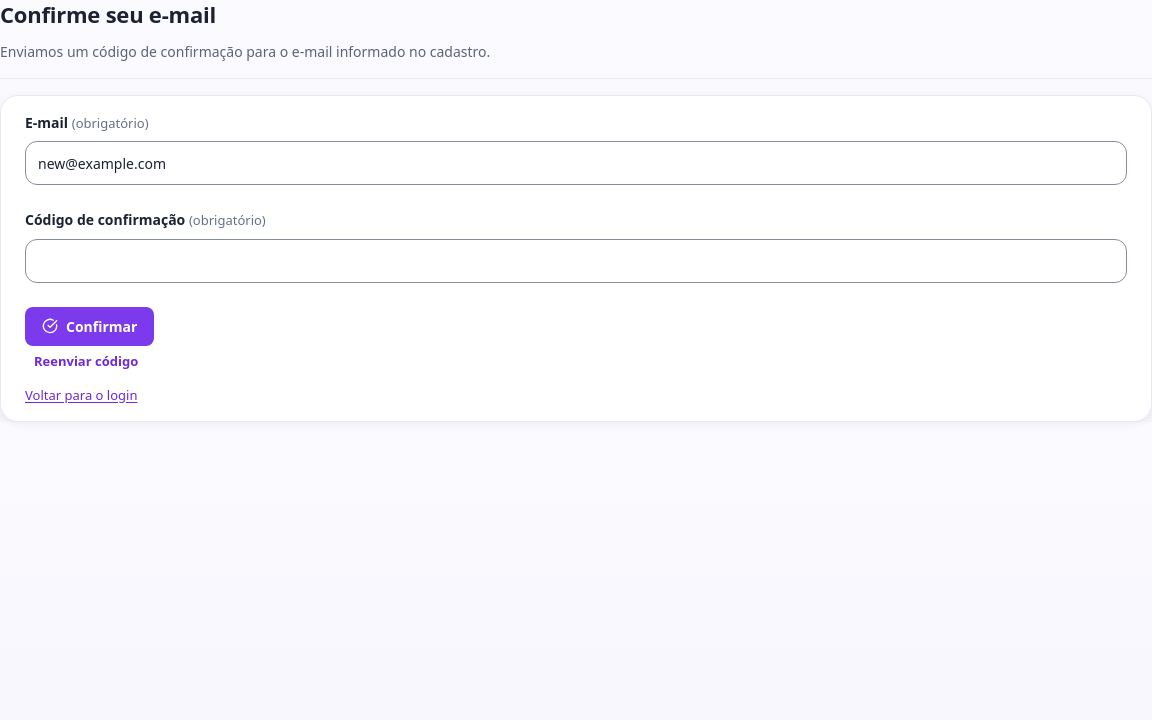
Test: VerifyEmail › resends the code and shows a confirmation notice, without exposing whether the e-mail exists
The image size is (1152, 720).
Click the button "Reenviar código": click(86, 362) x1=25 y1=346 x2=147 y2=378
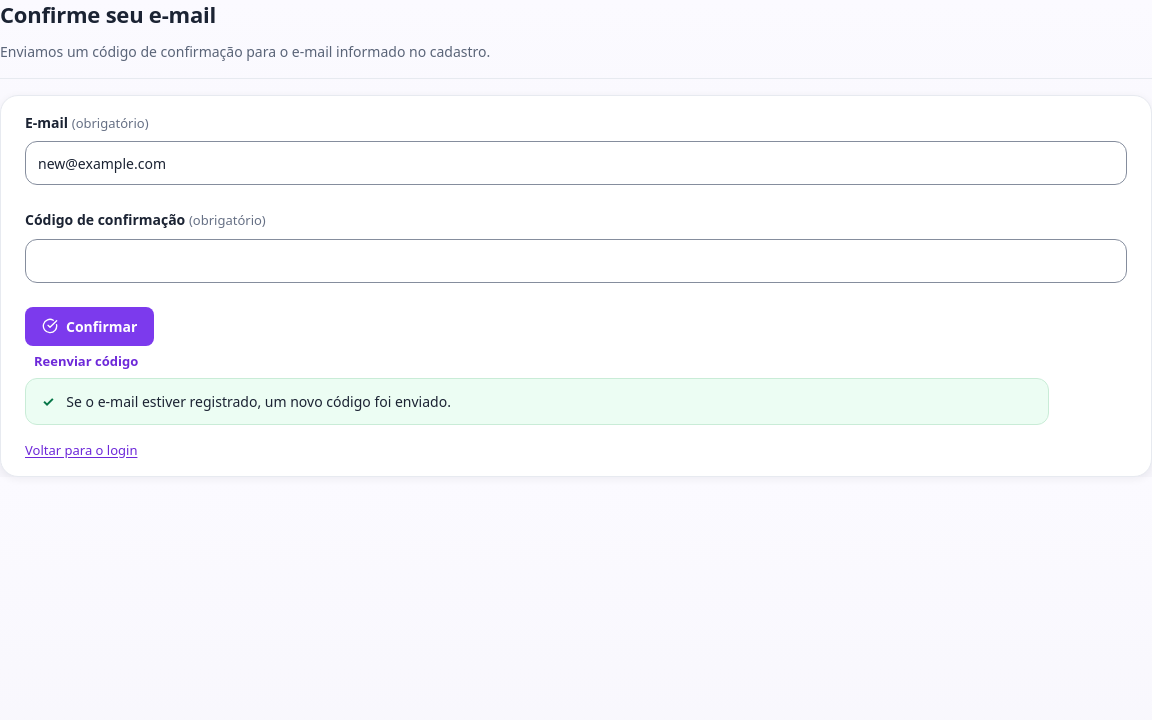
Result: the text "Se o e-mail estiver registrado, um novo código foi enviado." is shown at x1=66 y1=391 x2=451 y2=412
